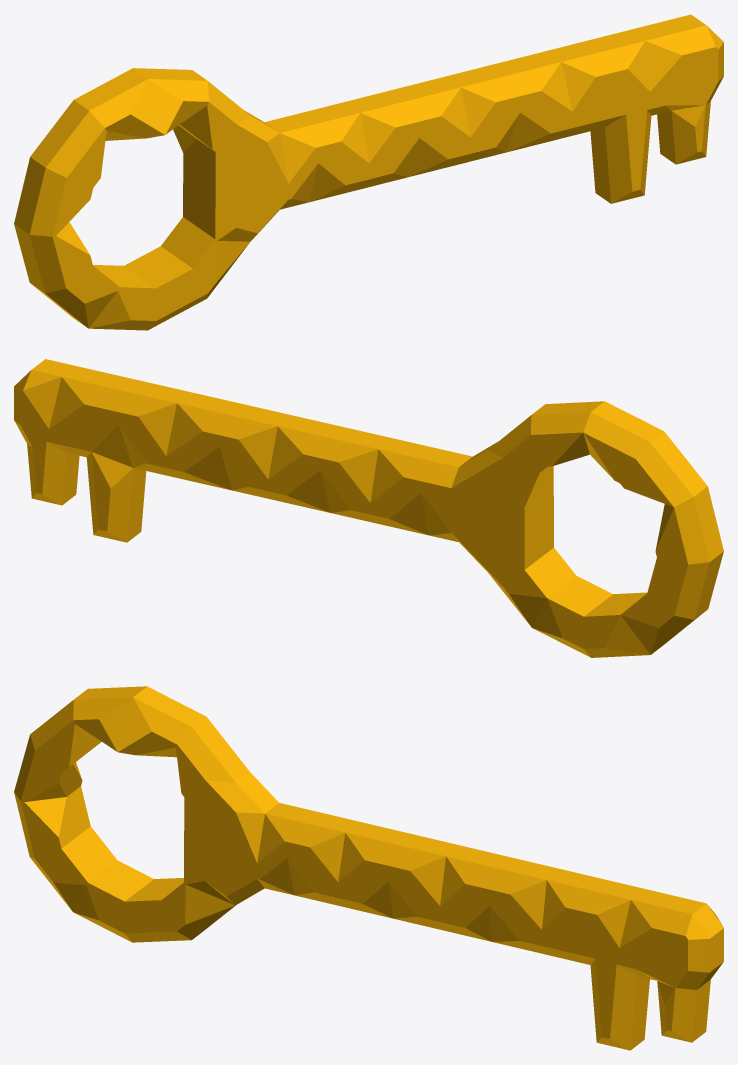
Rendered from test_key.glb.
3 renders of one model, top to bottom at view 1: azimuth 30°, elevation 25°; view 2: azimuth 150°, elevation 25°; view 3: azimuth 330°, elevation 25°, orthographic. The views are drawn at different scales.
Visible parts, largest first — view 1: Circle.026; view 2: Circle.026; view 3: Circle.026.
Boxes of the visible parts, x1=… form: Circle.026: x1=14, y1=14, x2=723, y2=330; Circle.026: x1=14, y1=359, x2=723, y2=657; Circle.026: x1=14, y1=686, x2=723, y2=1050.
Size of the model in its own units: 1.89 by 0.6454 by 0.2163.
1 material, 1 textured.
